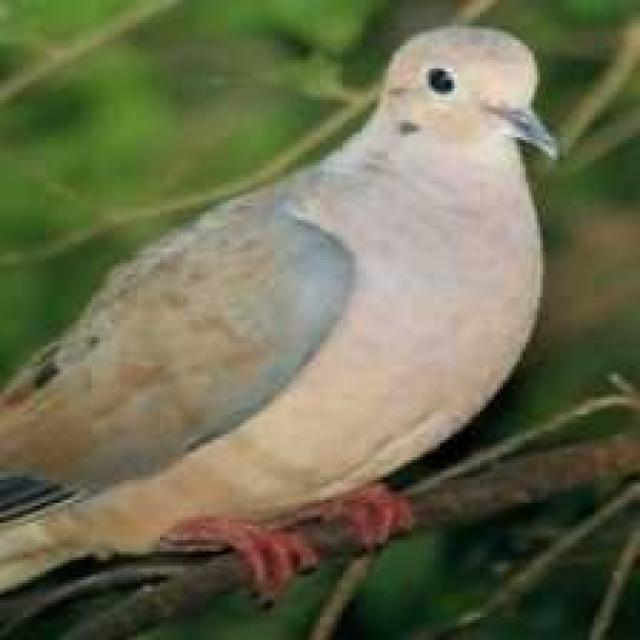bird: (6, 11, 569, 594)
